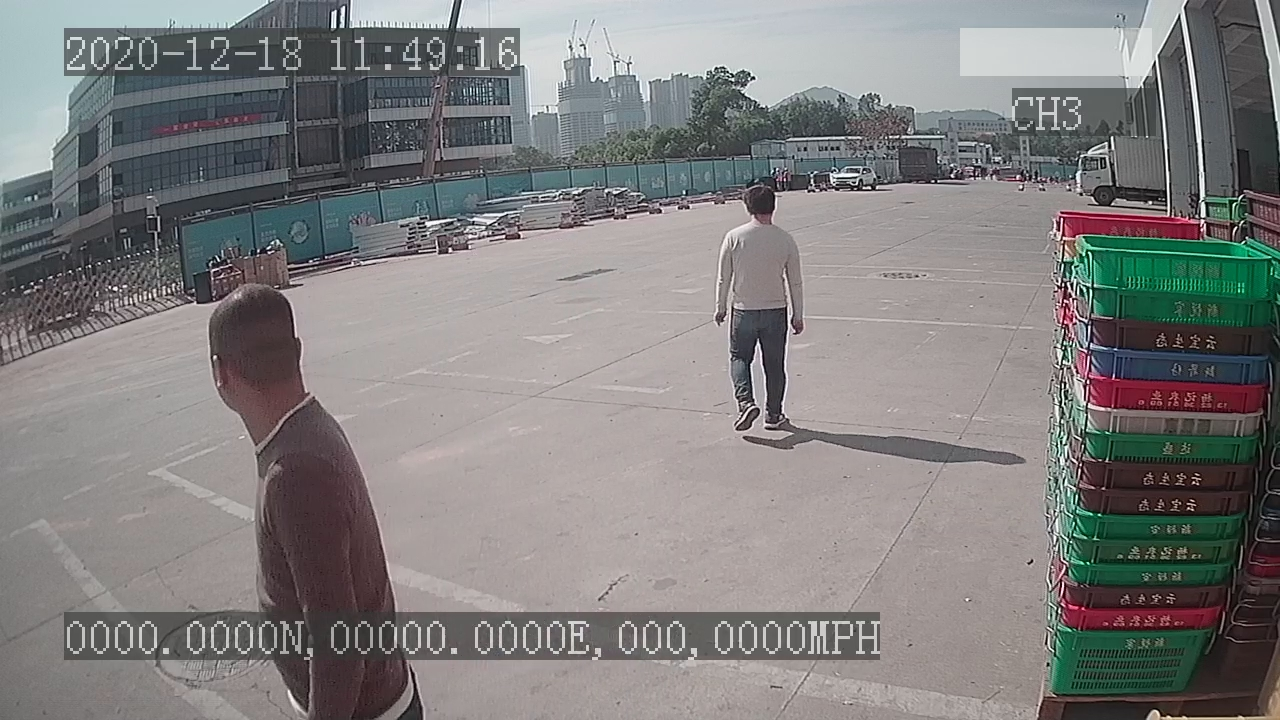person: (709, 181, 808, 435)
